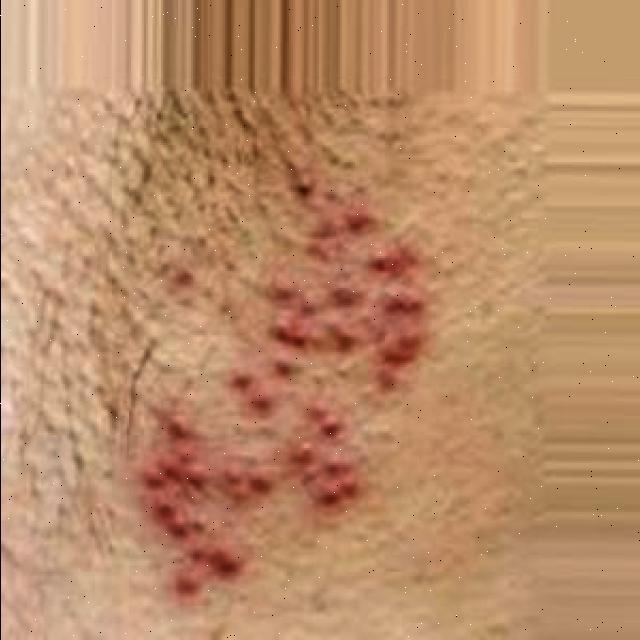Shingles: (141, 175, 426, 602)
